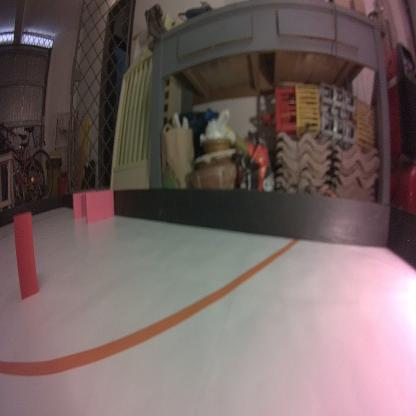magenta: (84, 188, 115, 225), (72, 190, 98, 219)
red: (13, 209, 39, 298)
